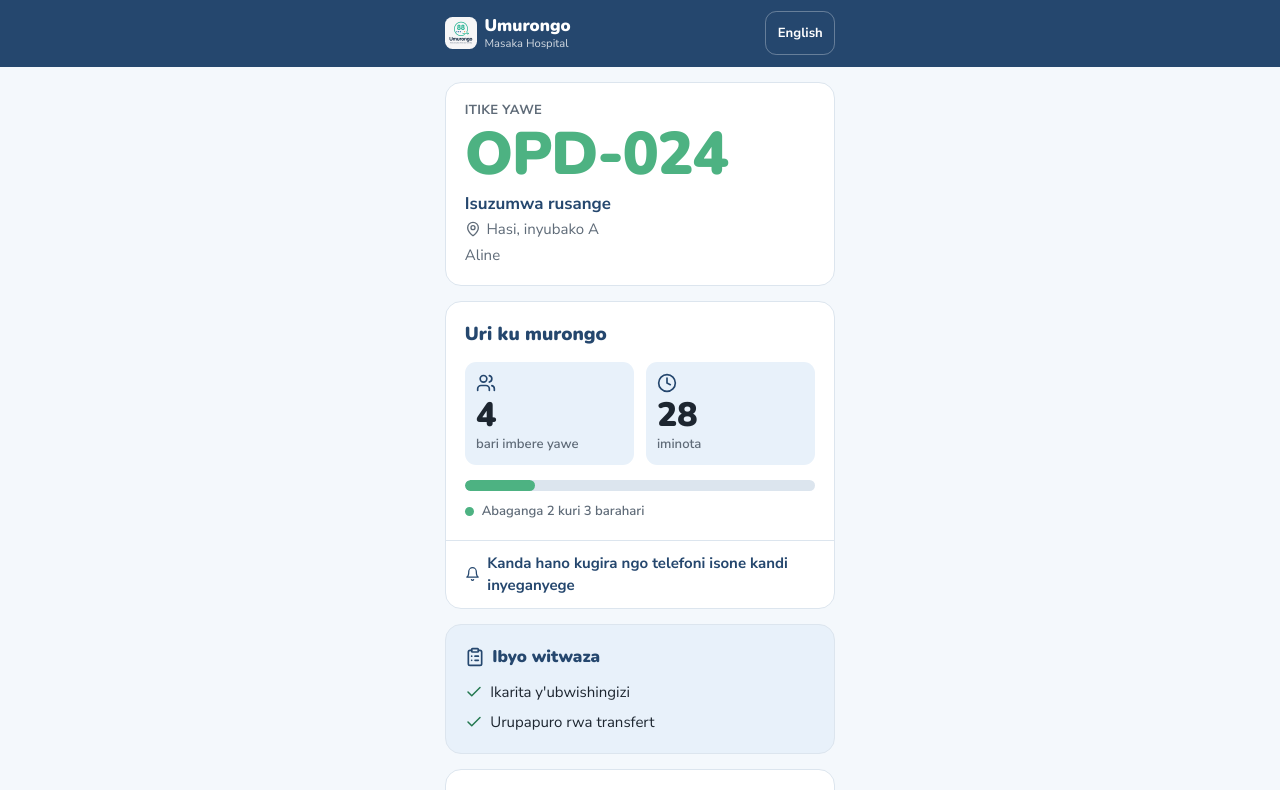
Test case: patient ticket page › switches to English
Click the button "English".
click(800, 33)  # box [766,11,835,55]
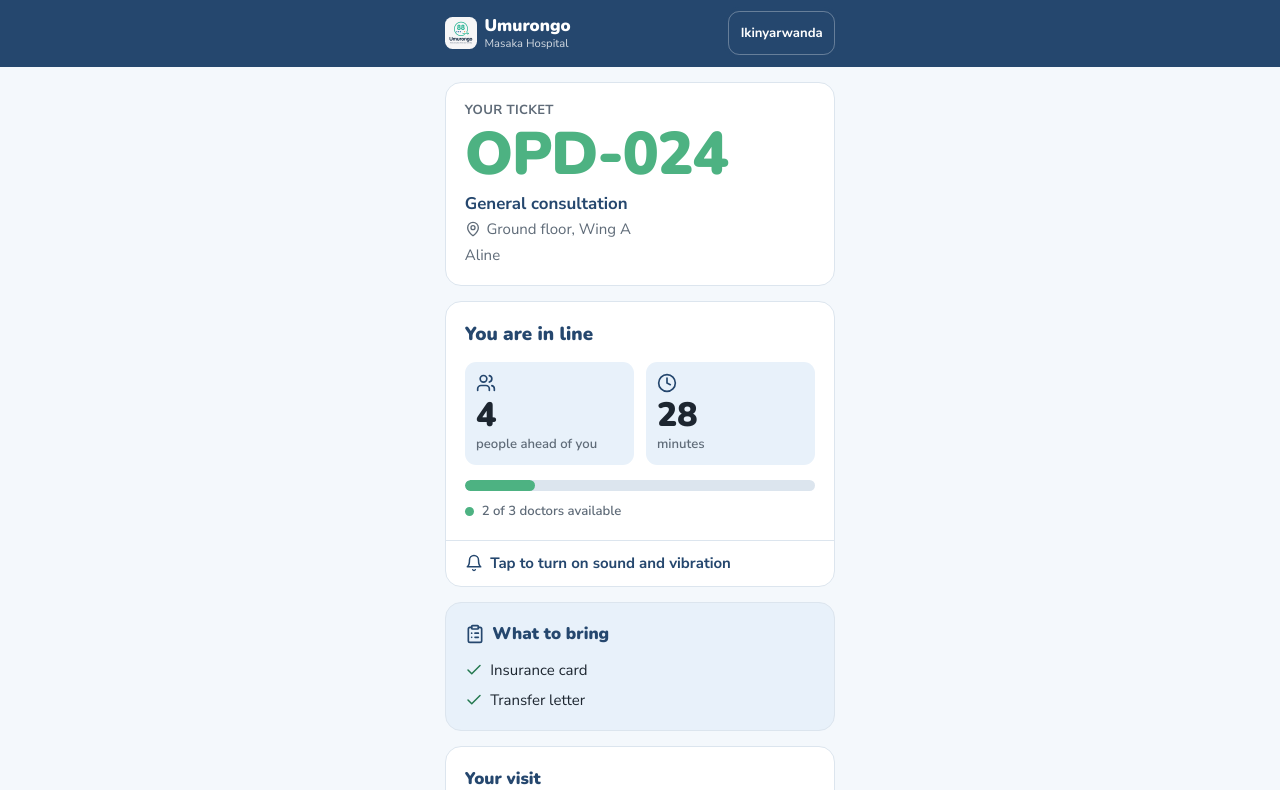
Now the heading "You are in line" is shown, box [465,321,593,347]
Now the text "General consultation" is shown, box [465,192,628,215]
Now the text "Insurance card" is shown, box [490,659,588,681]
